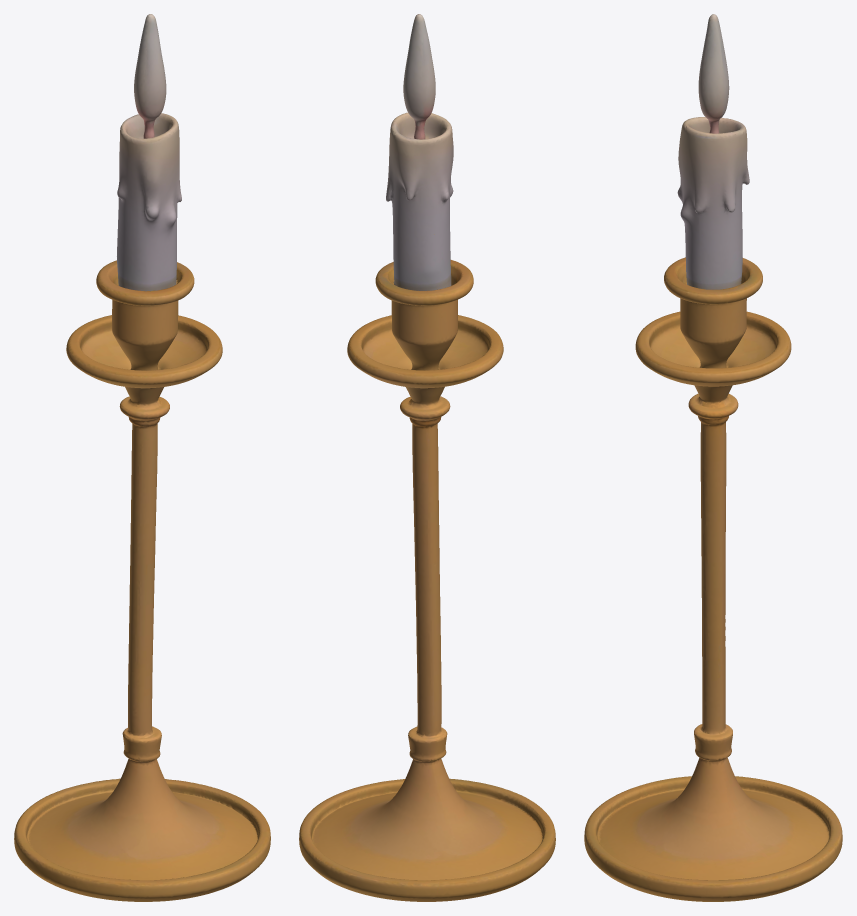
The model's file is candle-holder.glb.
3 views of the same model, side by side, from view 1: azimuth 30°, elevation 25°; view 2: azimuth 150°, elevation 25°; view 3: azimuth 270°, elevation 25° (orthographic).
Parts seen in each view (by area): view 1: tripo_node_822c7b7a-2654-438b-82d8-3fc6acaf5549; view 2: tripo_node_822c7b7a-2654-438b-82d8-3fc6acaf5549; view 3: tripo_node_822c7b7a-2654-438b-82d8-3fc6acaf5549.
Part boxes in pixels (x1,y1,x2,y2): tripo_node_822c7b7a-2654-438b-82d8-3fc6acaf5549: (14, 14, 270, 901); tripo_node_822c7b7a-2654-438b-82d8-3fc6acaf5549: (299, 14, 555, 901); tripo_node_822c7b7a-2654-438b-82d8-3fc6acaf5549: (584, 14, 842, 901).
Size of the model in its own units: 0.2779 by 1 by 0.2777.
1 material, 1 textured.
